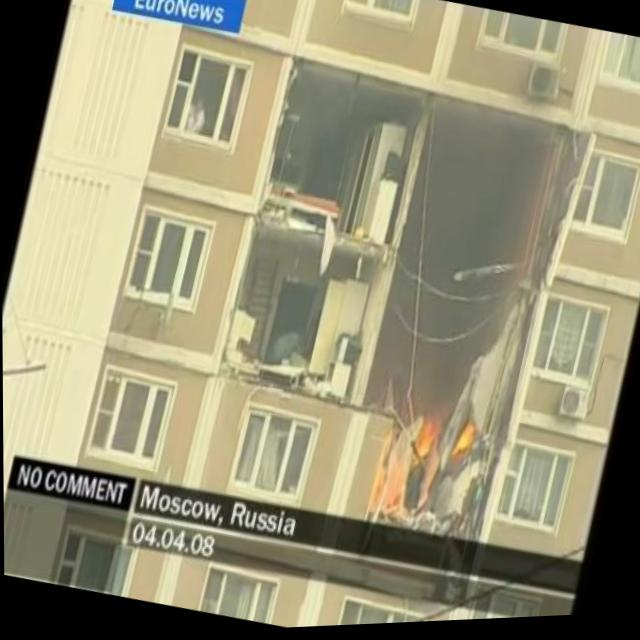fire: (402, 403, 449, 483), (451, 420, 481, 472)
